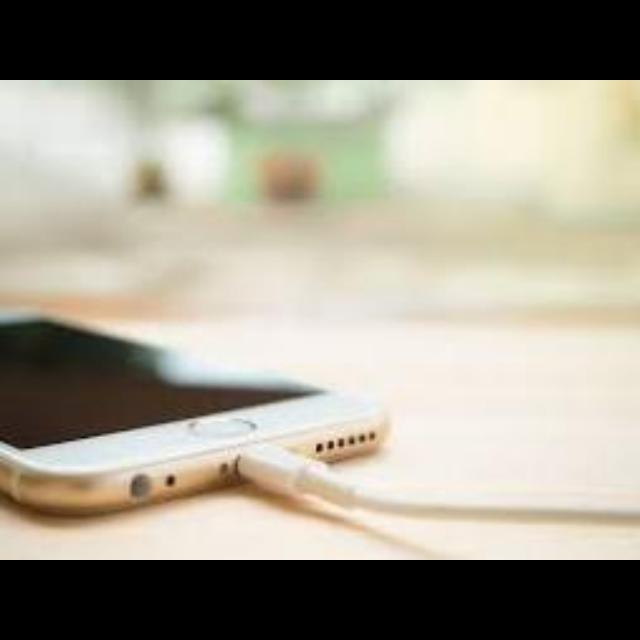Phone: (0, 300, 414, 512)
